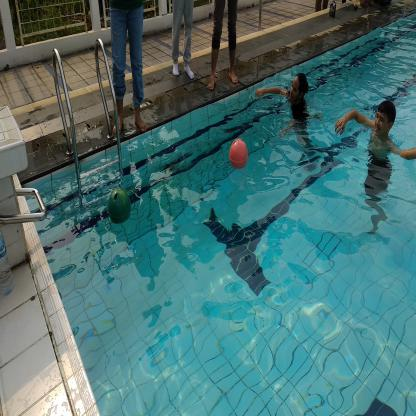green_buoy: (103, 180, 137, 233)
red_buoy: (224, 128, 254, 178)
